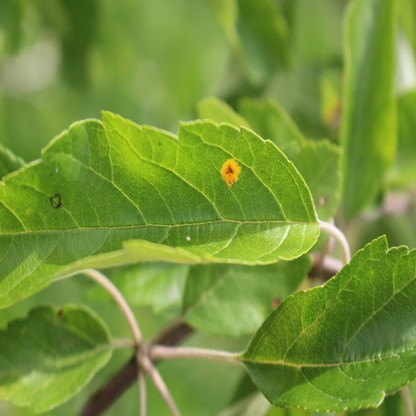rust: (221, 159, 241, 184), (270, 298, 280, 311)
